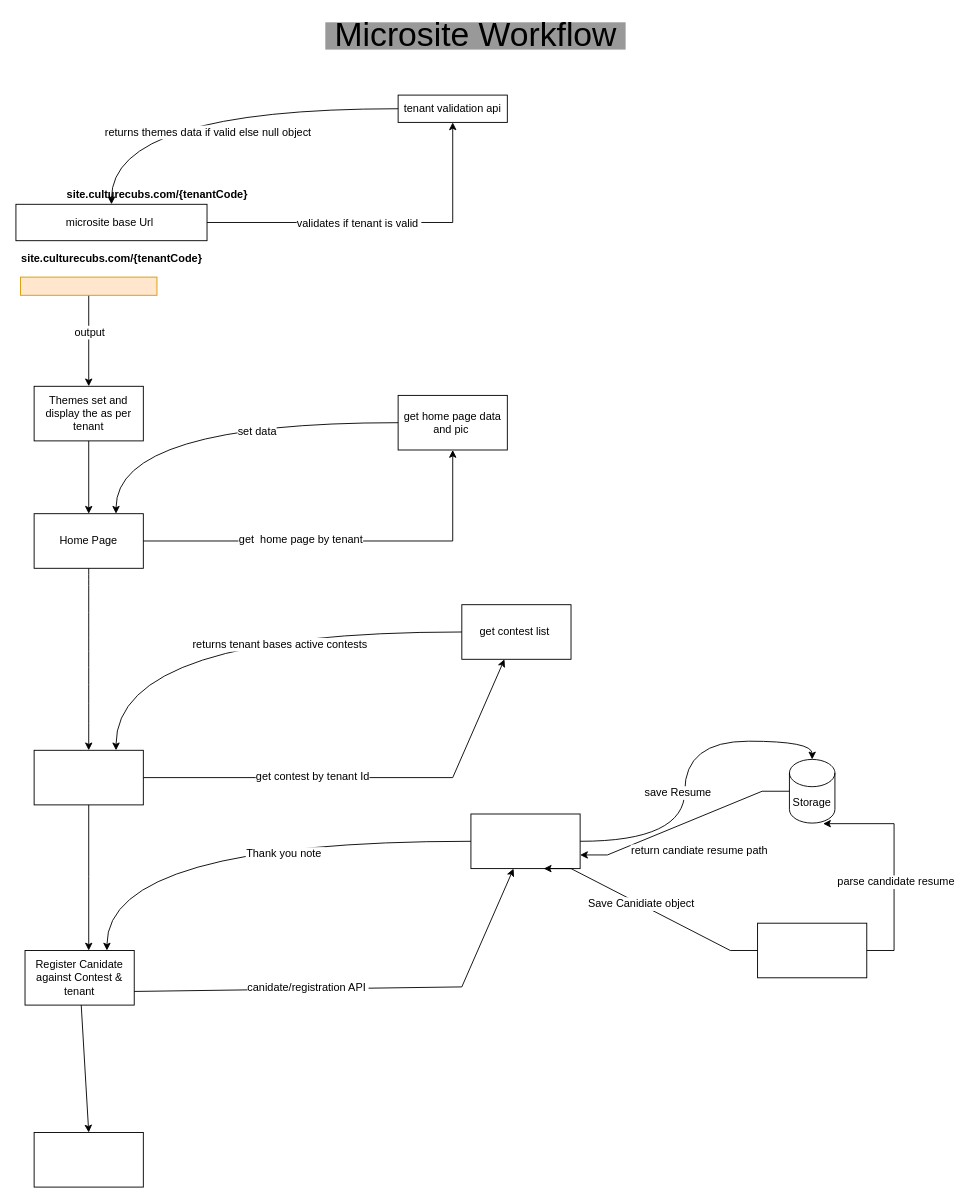
This 970x1203 diagram has some shape labels left out. The centre of each missing label's shape, as x and y in pixels:
"Canidate Parser" belongs at (x=812, y=950).
"Canidate Profile ?" belongs at (x=88, y=1159).
"Contest" belongs at (x=88, y=777).
"Save Canidate details" belongs at (x=525, y=841).
"site.culturecubs.com/msft" belongs at (x=88, y=285).
